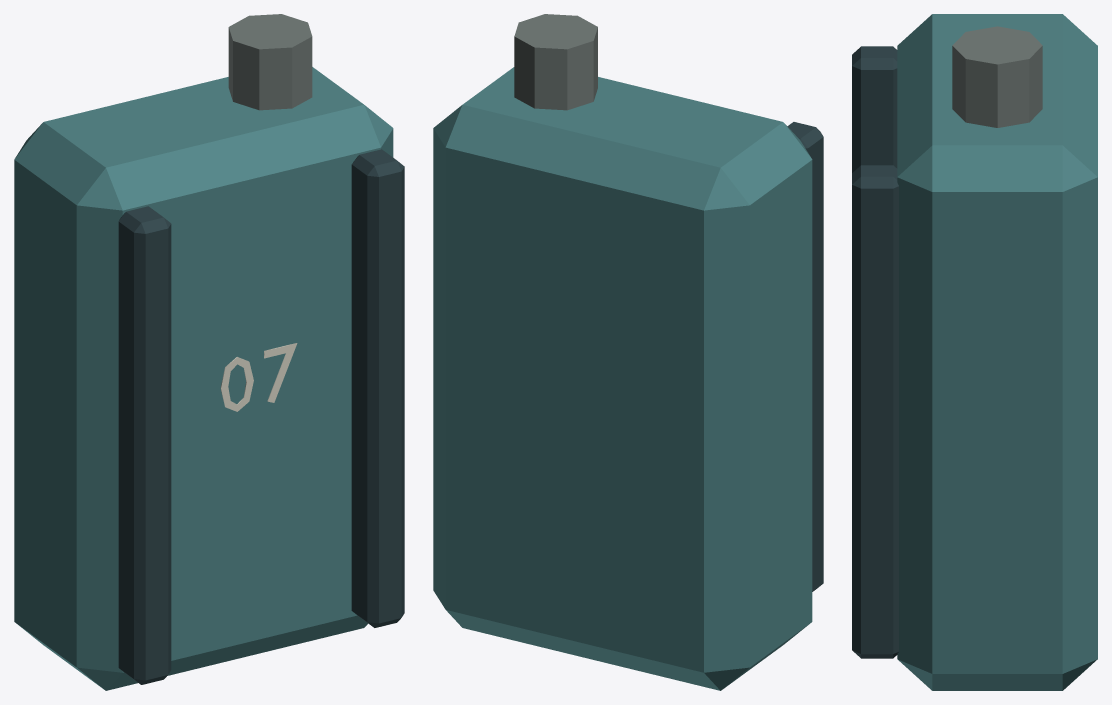
Rendered from battery-pack.glb.
3 renders of one model, left to right at view 1: azimuth 30°, elevation 25°; view 2: azimuth 150°, elevation 25°; view 3: azimuth 270°, elevation 25°, orthographic. The views are drawn at different scales.
Parts seen in each view (by area): view 1: battery-pack__battery-pack__petrol, battery-pack__battery-pack__steel, battery-pack__battery-pack__hardware, battery-pack__battery-pack__ivory; view 2: battery-pack__battery-pack__petrol, battery-pack__battery-pack__hardware, battery-pack__battery-pack__steel; view 3: battery-pack__battery-pack__petrol, battery-pack__battery-pack__steel, battery-pack__battery-pack__hardware.
Part boxes in pixels (bbox=[...]): battery-pack__battery-pack__petrol: bbox=[14, 67, 393, 690]; battery-pack__battery-pack__steel: bbox=[118, 149, 404, 684]; battery-pack__battery-pack__hardware: bbox=[228, 14, 312, 110]; battery-pack__battery-pack__ivory: bbox=[220, 343, 297, 411]; battery-pack__battery-pack__petrol: bbox=[433, 67, 812, 690]; battery-pack__battery-pack__hardware: bbox=[514, 14, 597, 110]; battery-pack__battery-pack__steel: bbox=[787, 122, 823, 591]; battery-pack__battery-pack__petrol: bbox=[897, 14, 1097, 690]; battery-pack__battery-pack__steel: bbox=[852, 46, 898, 658]; battery-pack__battery-pack__hardware: bbox=[952, 26, 1042, 127].
Size of the model in its own units: 0.38 by 0.675 by 0.245.
